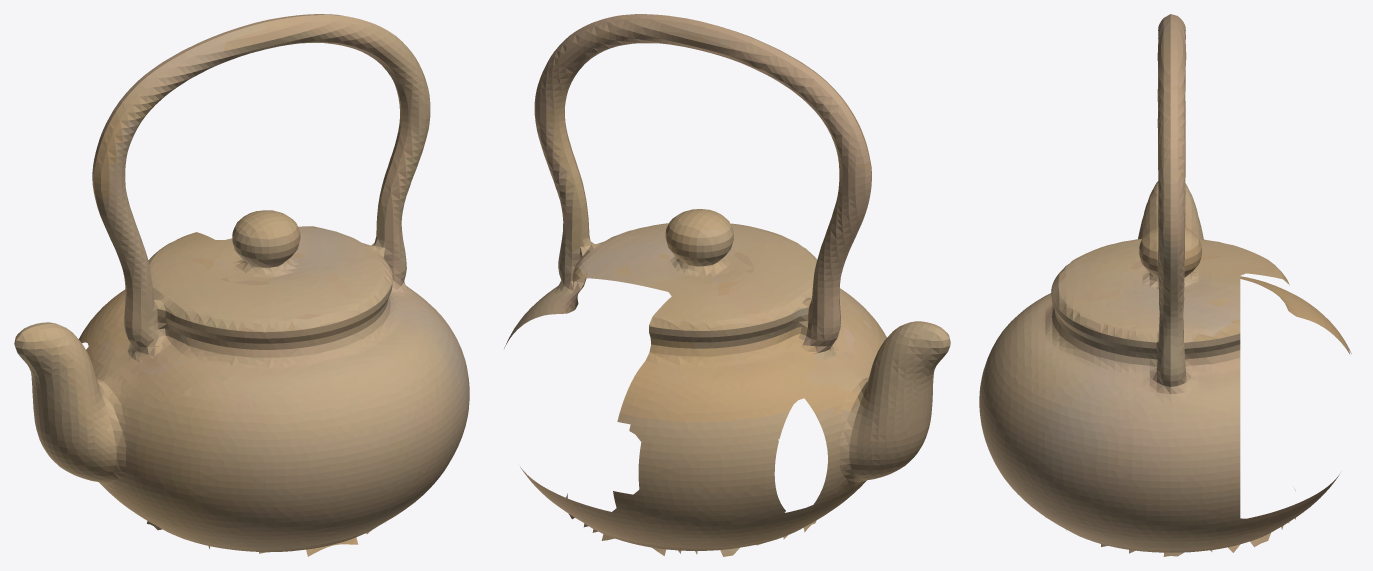
Rendered from garak_kettle.glb.
3 views of the same model, side by side, from view 1: azimuth 30°, elevation 25°; view 2: azimuth 150°, elevation 25°; view 3: azimuth 270°, elevation 25° (orthographic). The views are drawn at different scales.
Visible parts, largest first — view 1: kettle3.obj; view 2: kettle3.obj; view 3: kettle3.obj.
Boxes of the visible parts, x1,y1,x2,y2 form: kettle3.obj: [14, 14, 469, 556]; kettle3.obj: [504, 14, 950, 556]; kettle3.obj: [979, 14, 1351, 556].
Size of the model in its own units: 0.428 by 0.4588 by 0.3428.
1 material, 1 textured.
